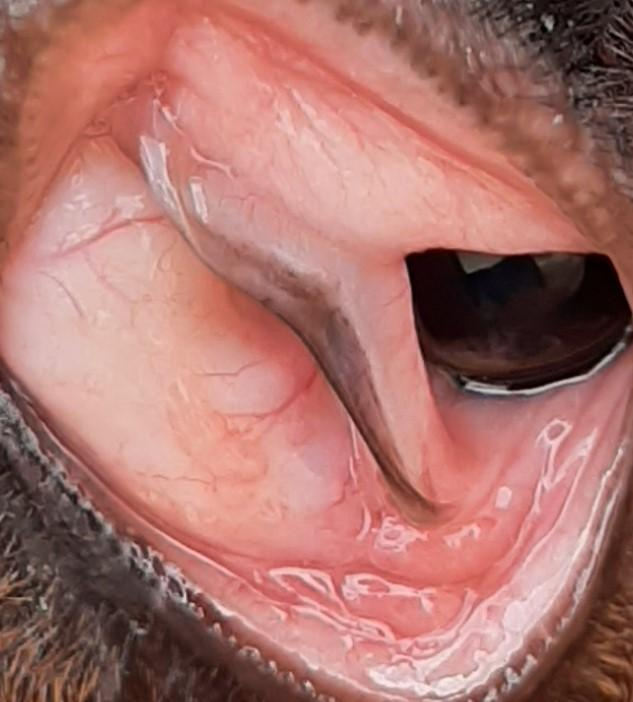eye_membrane: (3, 0, 631, 702)
